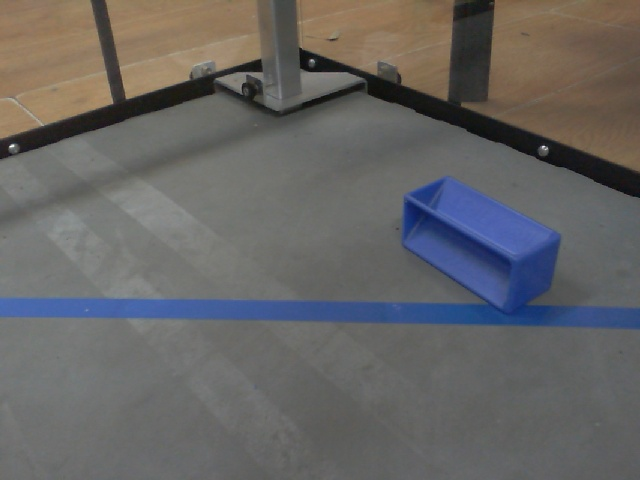BlueSample: (399, 168, 566, 318)
